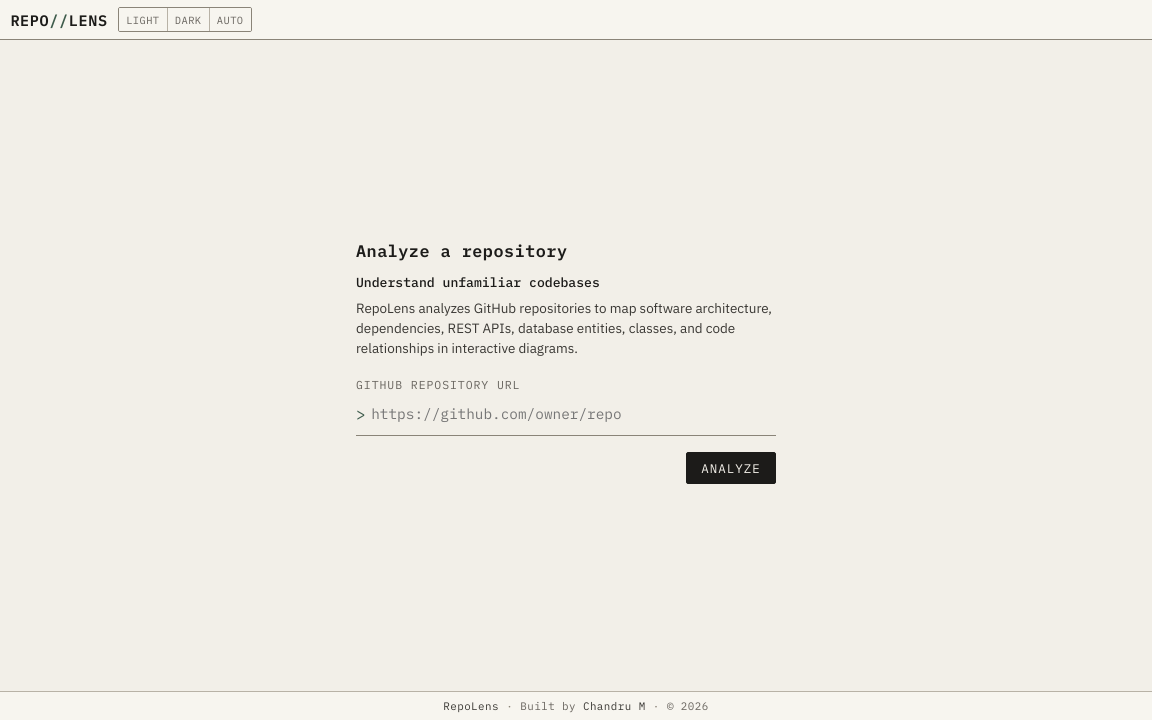
Scenario: landing analysis › rejects empty input
The image size is (1152, 720).
Step 1. Click the button "Analyze" → (731, 468), box 686,452 -> 776,484
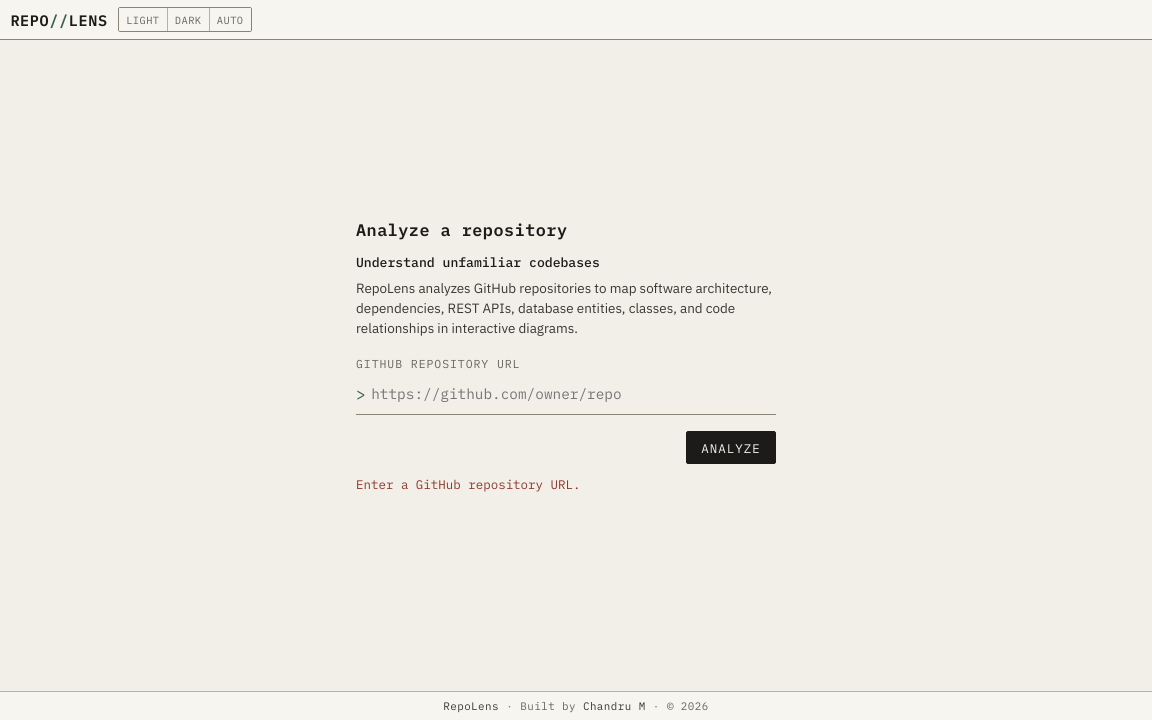
Expected: the heading "Analyze a repository" is shown, 356,219 -> 568,241
Expected: the text "Enter a GitHub repository URL." is shown, 356,476 -> 580,492
